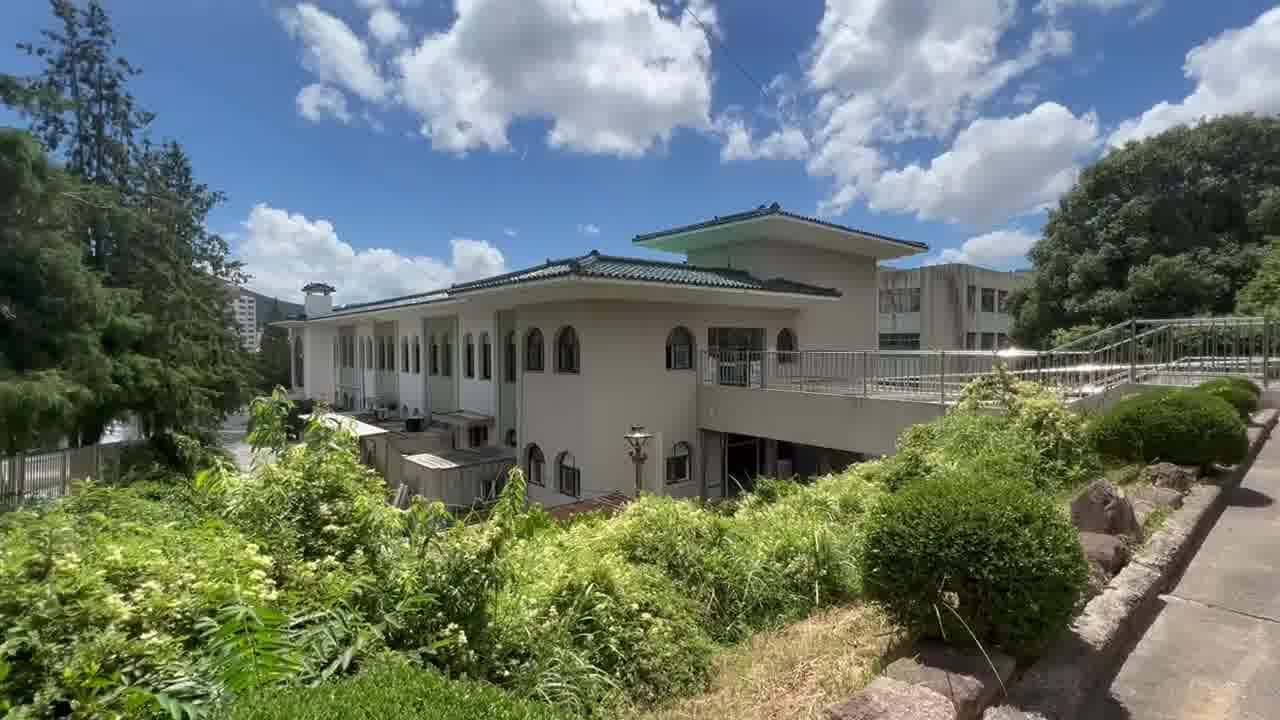building: (319, 204, 927, 423)
